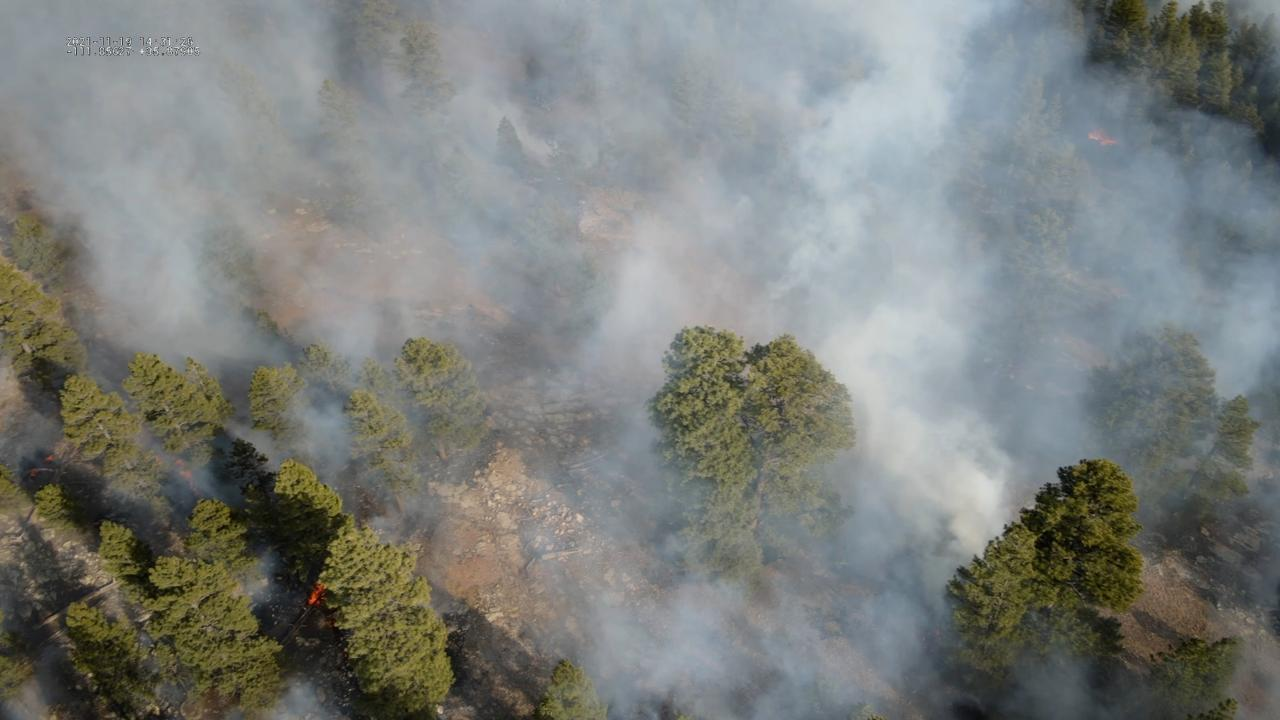fire: (1086, 129, 1121, 148), (305, 581, 327, 609), (175, 458, 194, 482), (29, 467, 41, 479), (43, 453, 57, 461)
smoke: (0, 0, 1280, 720)
